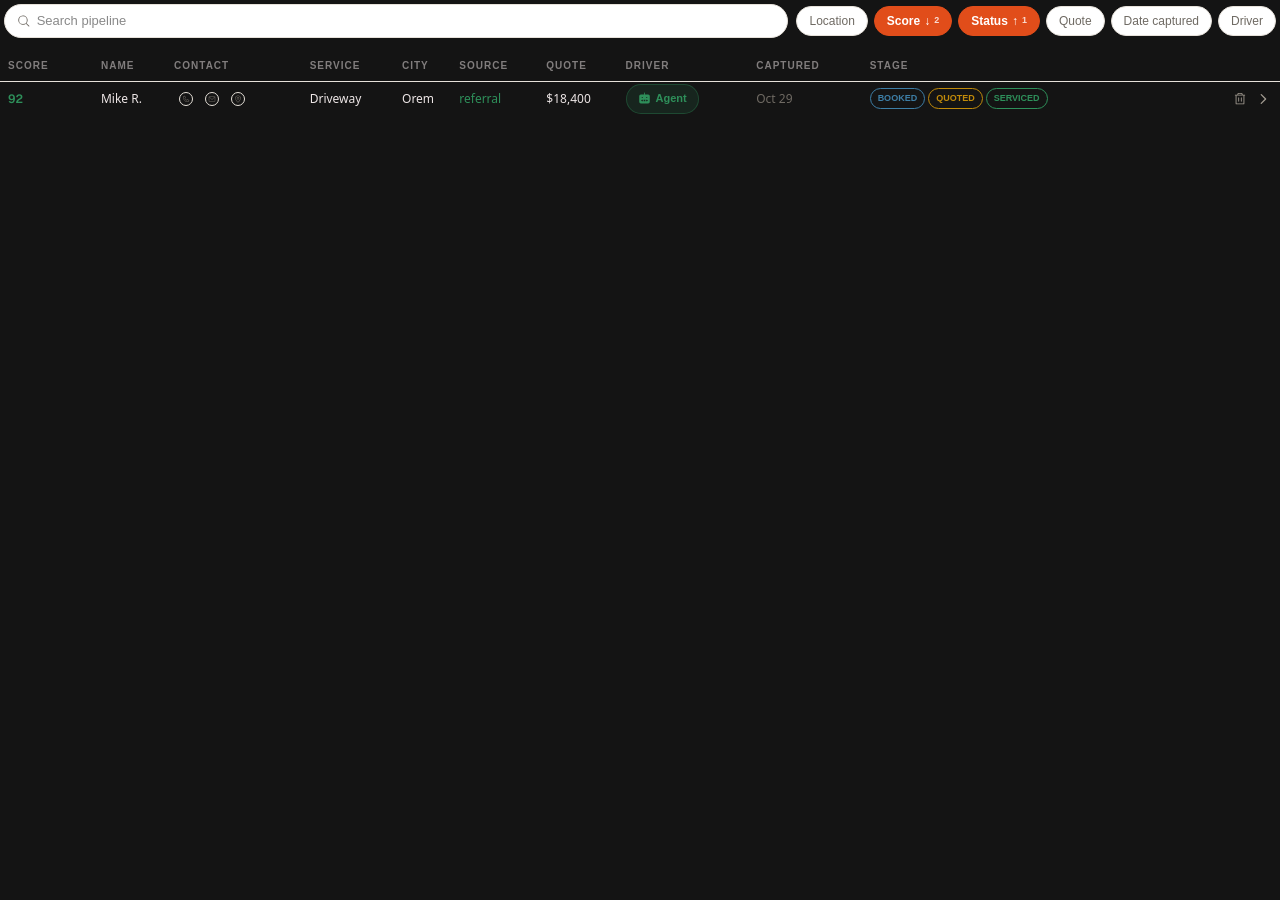
Test: LeadsTable delete › Yes DELETEs the lead with its session and drops the row
Click the button with test id "delete-lead-l1".
click(1240, 98)  # box x1=1228 y1=86 x2=1252 y2=110
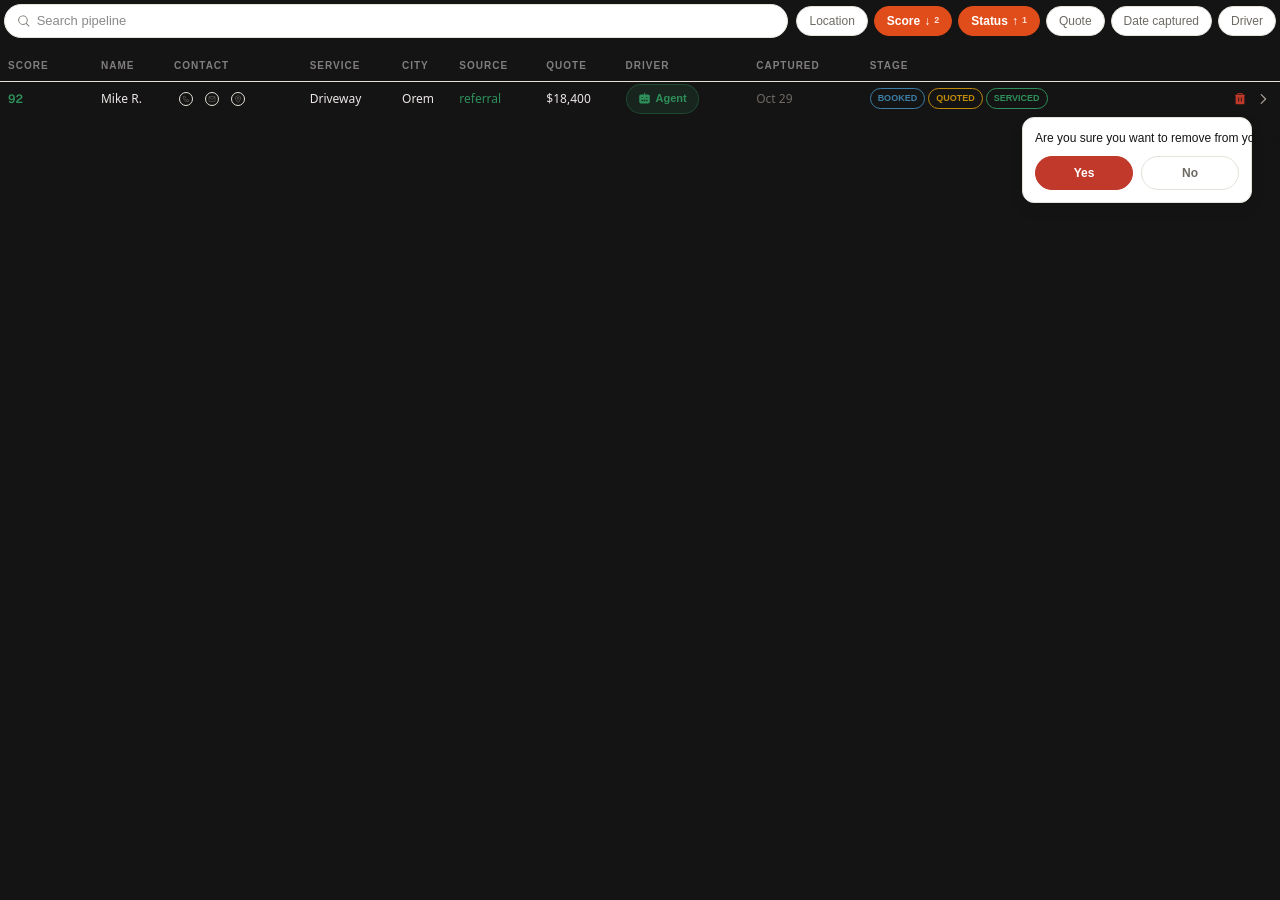
Click the button with test id "delete-lead-l1-yes".
click(1084, 173)  # box x1=1035 y1=156 x2=1133 y2=190
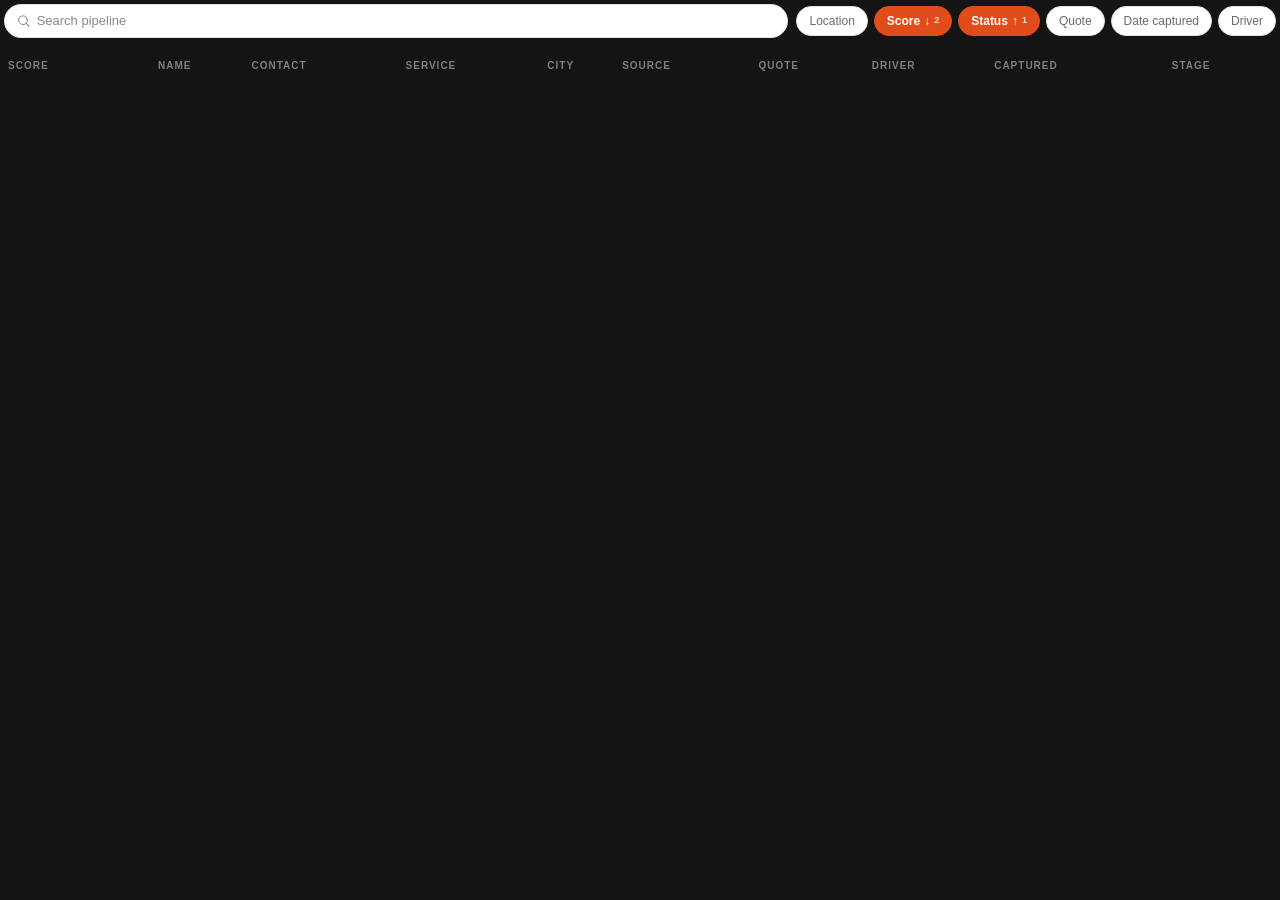
Check: the row with test id "lead-row-l1" is gone
